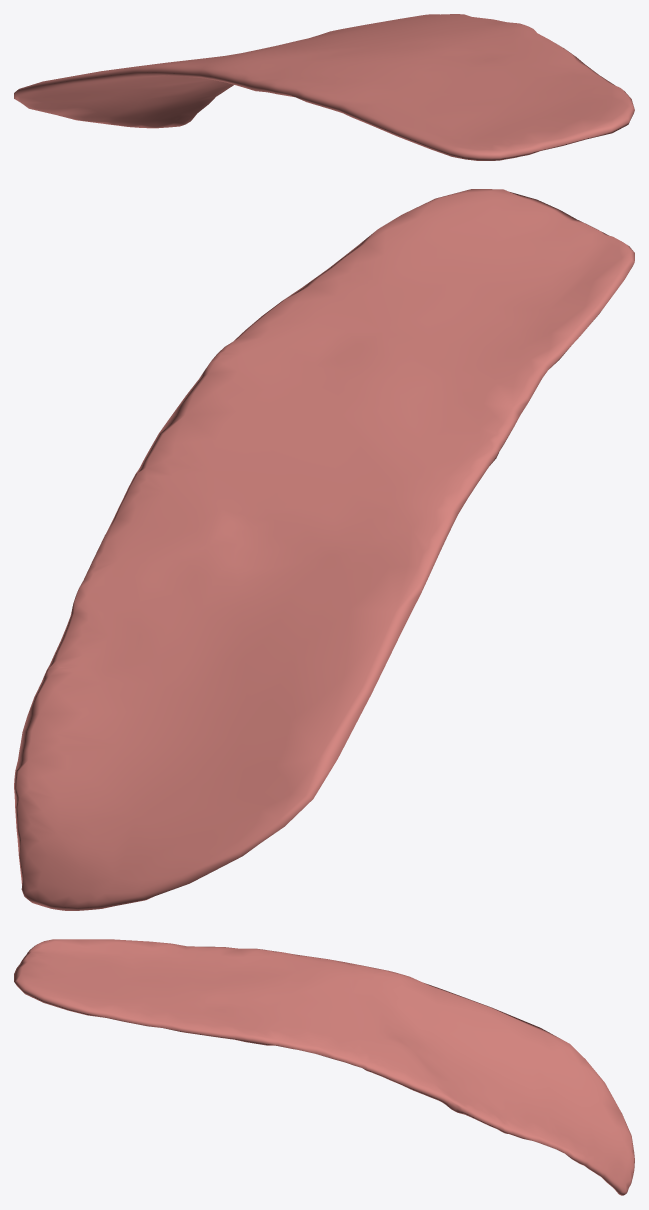
The picture shows the model from 3 angles, top to bottom: view 1: azimuth 30°, elevation 25°; view 2: azimuth 150°, elevation 25°; view 3: azimuth 270°, elevation 25°; orthographic projection. The views are drawn at different scales.
Parts seen in each view (by area): view 1: ZA_66656a0082e3de7a; view 2: ZA_66656a0082e3de7a; view 3: ZA_66656a0082e3de7a.
Part boxes in pixels (bbox=[...]): ZA_66656a0082e3de7a: bbox=[14, 14, 634, 160]; ZA_66656a0082e3de7a: bbox=[14, 189, 634, 910]; ZA_66656a0082e3de7a: bbox=[14, 939, 634, 1195].
Size of the model in its own units: 0.0144 by 0.0139 by 0.0355.
